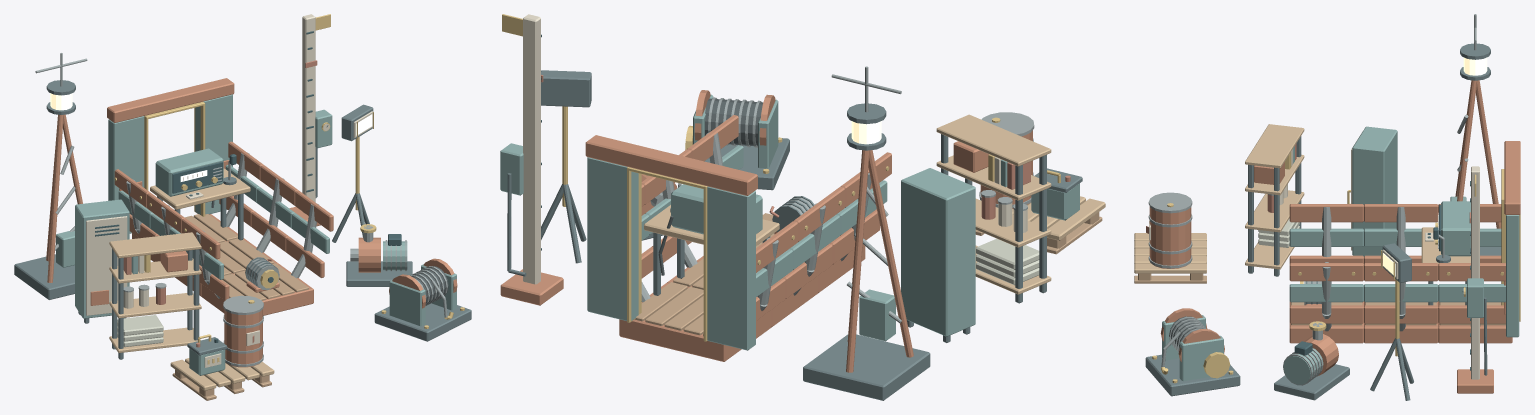
Rendered from last_signal_diorama.glb.
3 renders of one model, left to right at view 1: azimuth 30°, elevation 25°; view 2: azimuth 150°, elevation 25°; view 3: azimuth 270°, elevation 25°, orthographic. The views are drawn at different scales.
Visible parts, largest first — view 1: supply_shelf, wreck_bulkhead_2m, wreck_bay_0, signal_beacon, salvage_locker, salvage_winch, wreck_bay_1, radio_desk, wreck_bay_2, tide_gauge, water_pump, fuel_drum (+4 smaller); view 2: wreck_bulkhead_2m, signal_beacon, supply_shelf, salvage_locker, wreck_bay_2, tide_gauge, wreck_bay_1, salvage_winch, wreck_bay_0, radio_desk, floodlight, cargo_pallet (+3 smaller); view 3: wreck_bay_0, wreck_bay_1, supply_shelf, salvage_winch, wreck_bay_2, salvage_locker, wreck_bulkhead_2m, tide_gauge, water_pump, fuel_drum, signal_beacon, radio_desk (+2 smaller).
Boxes of the visible parts, x1,y1,x2,y2 form: supply_shelf: [109, 232, 201, 359]; wreck_bulkhead_2m: [107, 78, 234, 233]; wreck_bay_0: [182, 190, 333, 315]; signal_beacon: [14, 53, 87, 299]; salvage_locker: [75, 199, 129, 323]; salvage_winch: [374, 258, 471, 341]; wreck_bay_1: [147, 165, 298, 296]; radio_desk: [150, 148, 250, 240]; wreck_bay_2: [114, 141, 263, 261]; tide_gauge: [289, 14, 332, 226]; water_pump: [346, 224, 412, 286]; fuel_drum: [223, 295, 263, 367]; wreck_bulkhead_2m: [585, 135, 757, 350]; signal_beacon: [803, 66, 930, 400]; supply_shelf: [936, 114, 1051, 303]; salvage_locker: [901, 168, 975, 342]; wreck_bay_2: [619, 184, 797, 361]; tide_gauge: [500, 14, 563, 305]; wreck_bay_1: [641, 149, 844, 327]; salvage_winch: [685, 90, 789, 190]; wreck_bay_0: [687, 115, 891, 292]; radio_desk: [644, 183, 779, 295]; floodlight: [541, 70, 591, 263]; cargo_pallet: [975, 196, 1105, 254]; wreck_bay_0: [1289, 204, 1363, 343]; wreck_bay_1: [1364, 204, 1438, 343]; supply_shelf: [1245, 124, 1304, 276]; salvage_winch: [1145, 308, 1240, 396]; wreck_bay_2: [1438, 204, 1512, 343]; salvage_locker: [1347, 126, 1397, 256]; wreck_bulkhead_2m: [1501, 141, 1520, 337]; tide_gauge: [1457, 166, 1493, 393]; water_pump: [1274, 321, 1349, 400]; fuel_drum: [1146, 192, 1192, 268]; signal_beacon: [1450, 14, 1501, 255]; radio_desk: [1421, 201, 1470, 305].
Bounding box in the file's own units: 5.3 × 3.6 × 5.2.
